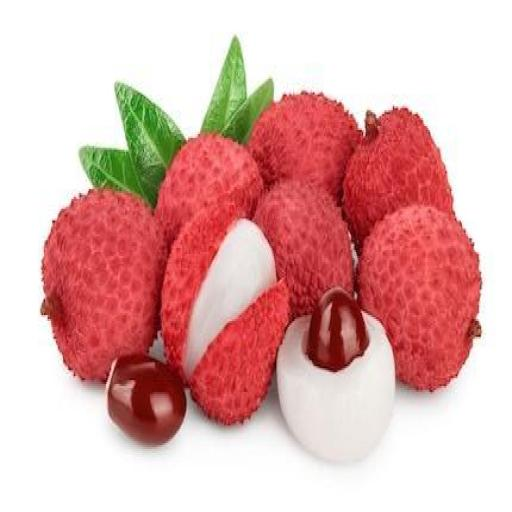lychee: (161, 203, 289, 423), (42, 190, 166, 380), (359, 205, 481, 389), (277, 290, 395, 462), (343, 109, 452, 250), (254, 182, 353, 317), (155, 134, 263, 248), (248, 93, 360, 202)
